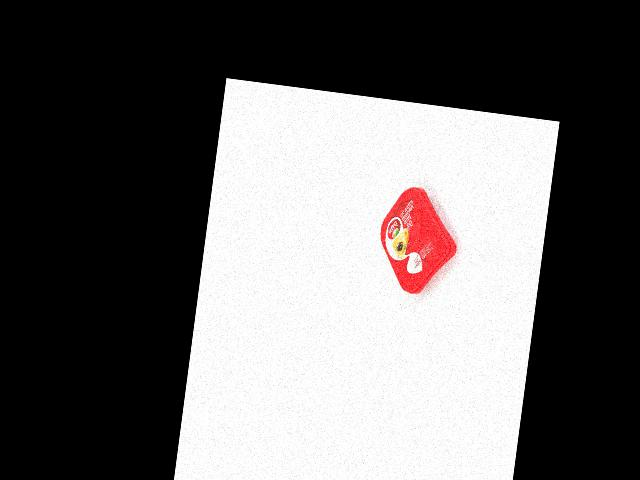cheese: (372, 183, 464, 299)
